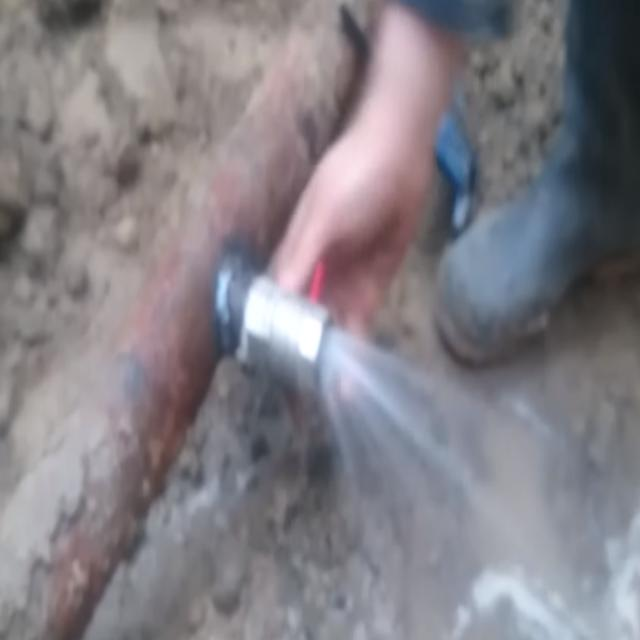leak: (320, 326, 640, 637)
